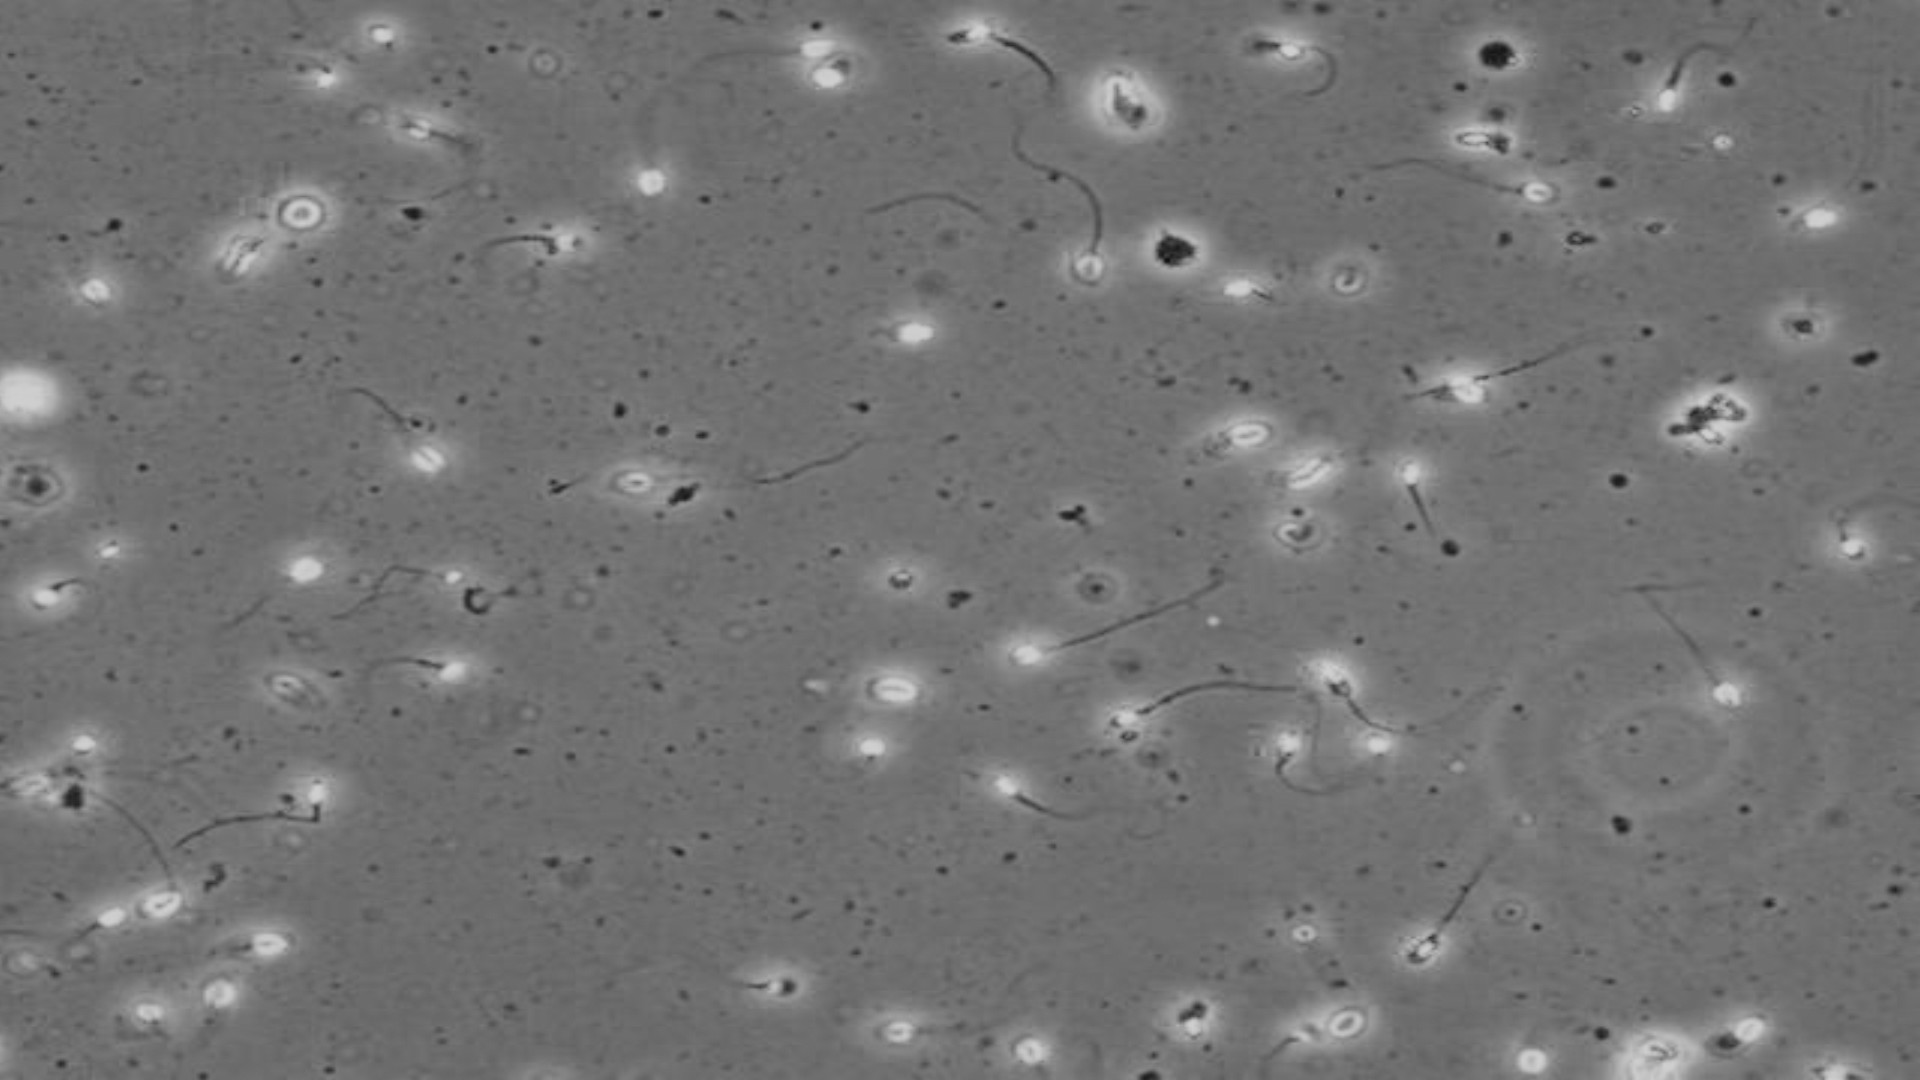sperm: (1007, 142, 1124, 303), (324, 382, 479, 495), (1364, 150, 1572, 218), (171, 773, 340, 855), (1647, 591, 1749, 716), (949, 15, 1072, 104), (1395, 858, 1485, 967), (1811, 485, 1920, 570), (981, 764, 1118, 828), (339, 560, 477, 621), (626, 88, 695, 208), (1313, 667, 1429, 728), (397, 113, 525, 166), (1385, 452, 1455, 549), (1646, 38, 1724, 117), (50, 899, 129, 973), (713, 963, 832, 1011), (1104, 684, 1228, 731), (357, 646, 483, 691), (465, 214, 585, 260), (988, 622, 1108, 669), (1278, 40, 1350, 113), (24, 567, 124, 616), (1263, 728, 1332, 798), (856, 305, 936, 363), (1218, 280, 1284, 320)
